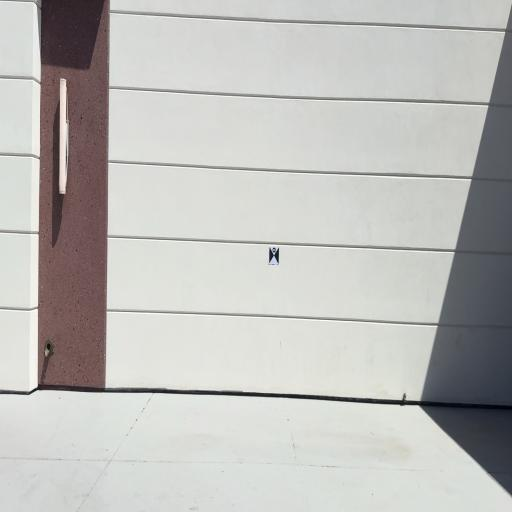target0: (269, 245, 279, 265)
